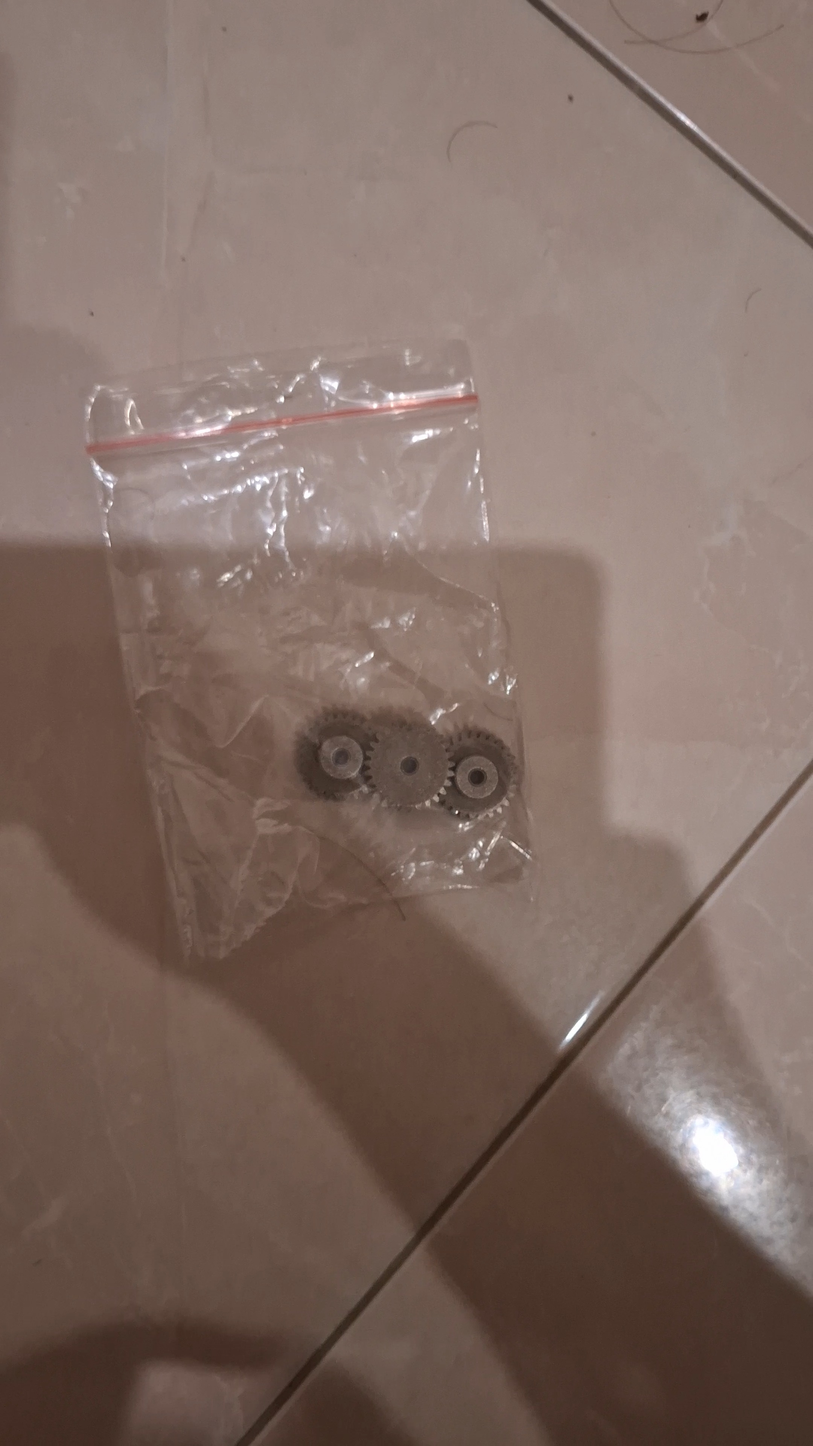spur gear: (365, 718, 450, 808), (442, 728, 518, 818), (296, 709, 371, 799)
